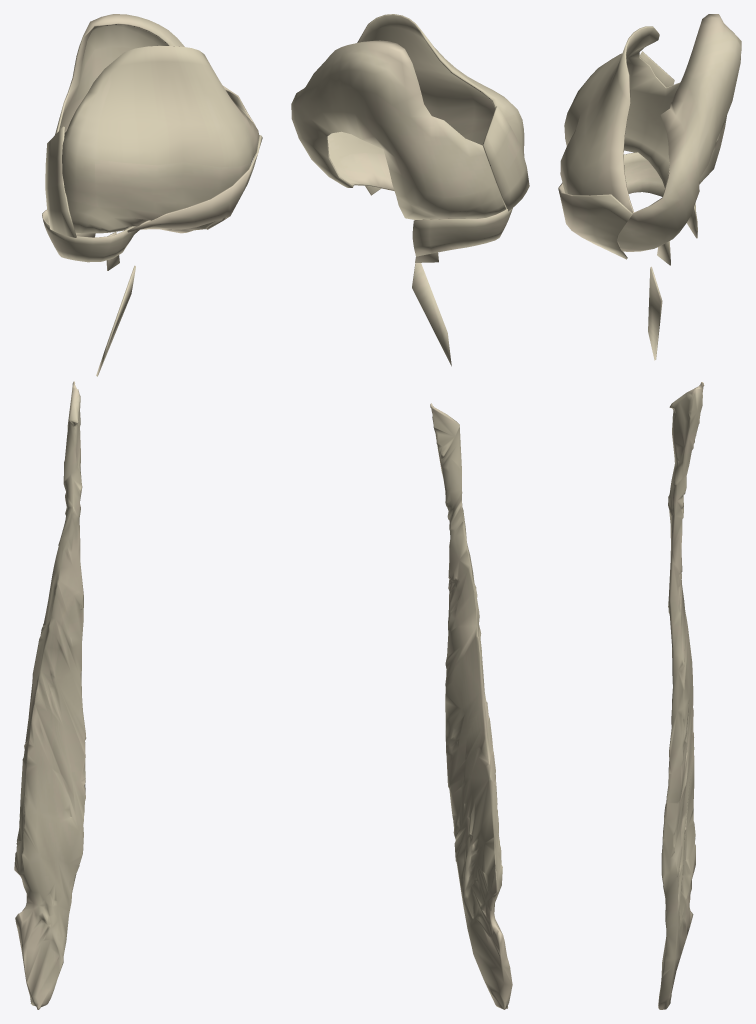
The model's file is elbow_r.detail.glb.
3 views of the same model, side by side, from view 1: azimuth 30°, elevation 25°; view 2: azimuth 150°, elevation 25°; view 3: azimuth 270°, elevation 25° (orthographic). The views are drawn at different scales.
Visible parts, largest first — view 1: elbow_r__soft__elbow_capsule__mesh, elbow_r__soft__interosseous_membrane_forearm__mesh, elbow_r__soft__ulnar_collateral_ligament_elbow__mesh, elbow_r__soft__annular_ligament_radius__mesh, elbow_r__soft__radial_collateral_ligament_elbow__mesh, elbow_r__soft__oblique_cord__mesh; view 2: elbow_r__soft__elbow_capsule__mesh, elbow_r__soft__interosseous_membrane_forearm__mesh, elbow_r__soft__annular_ligament_radius__mesh, elbow_r__soft__radial_collateral_ligament_elbow__mesh, elbow_r__soft__oblique_cord__mesh; view 3: elbow_r__soft__elbow_capsule__mesh, elbow_r__soft__interosseous_membrane_forearm__mesh, elbow_r__soft__ulnar_collateral_ligament_elbow__mesh, elbow_r__soft__annular_ligament_radius__mesh, elbow_r__soft__oblique_cord__mesh.
Boxes of the visible parts, bbox=[...] form: elbow_r__soft__elbow_capsule__mesh: bbox=[55, 14, 259, 233]; elbow_r__soft__interosseous_membrane_forearm__mesh: bbox=[14, 381, 86, 1009]; elbow_r__soft__ulnar_collateral_ligament_elbow__mesh: bbox=[127, 135, 262, 232]; elbow_r__soft__annular_ligament_radius__mesh: bbox=[42, 210, 139, 262]; elbow_r__soft__radial_collateral_ligament_elbow__mesh: bbox=[45, 126, 76, 237]; elbow_r__soft__oblique_cord__mesh: bbox=[96, 265, 135, 376]; elbow_r__soft__elbow_capsule__mesh: bbox=[291, 14, 524, 219]; elbow_r__soft__interosseous_membrane_forearm__mesh: bbox=[430, 403, 512, 1009]; elbow_r__soft__annular_ligament_radius__mesh: bbox=[412, 208, 512, 256]; elbow_r__soft__radial_collateral_ligament_elbow__mesh: bbox=[482, 106, 529, 211]; elbow_r__soft__oblique_cord__mesh: bbox=[412, 263, 451, 366]; elbow_r__soft__elbow_capsule__mesh: bbox=[560, 14, 741, 251]; elbow_r__soft__interosseous_membrane_forearm__mesh: bbox=[658, 382, 704, 1009]; elbow_r__soft__ulnar_collateral_ligament_elbow__mesh: bbox=[558, 182, 632, 259]; elbow_r__soft__annular_ligament_radius__mesh: bbox=[624, 152, 697, 238]; elbow_r__soft__oblique_cord__mesh: bbox=[648, 266, 662, 360].
Bounding box in the file's own units: 0.0651 × 0.2674 × 0.0428.
Materials: 1 (1 with a texture image).
